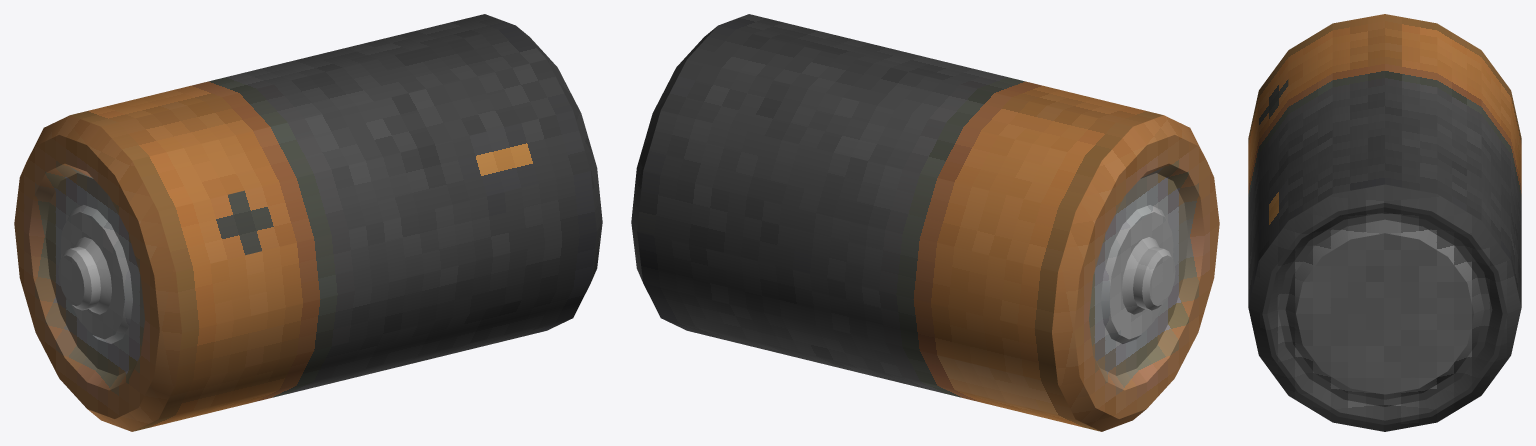
The model's file is battery_2.glb.
3 views of the same model, side by side, from view 1: azimuth 30°, elevation 25°; view 2: azimuth 150°, elevation 25°; view 3: azimuth 270°, elevation 25° (orthographic). The views are drawn at different scales.
Parts seen in each view (by area): view 1: battery_2; view 2: battery_2; view 3: battery_2.
Boxes of the visible parts, x1,y1,x2,y2 form: battery_2: (14, 14, 602, 431); battery_2: (631, 14, 1219, 431); battery_2: (1248, 14, 1521, 431).
Bounding box in the file's own units: 0.0882 × 0.054 × 0.054.
Materials: 1 (1 with a texture image).
